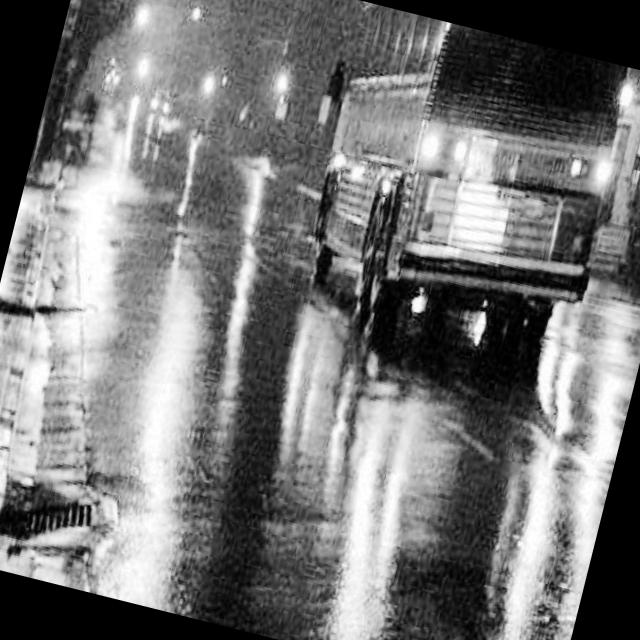Bus: (257, 0, 640, 445)
